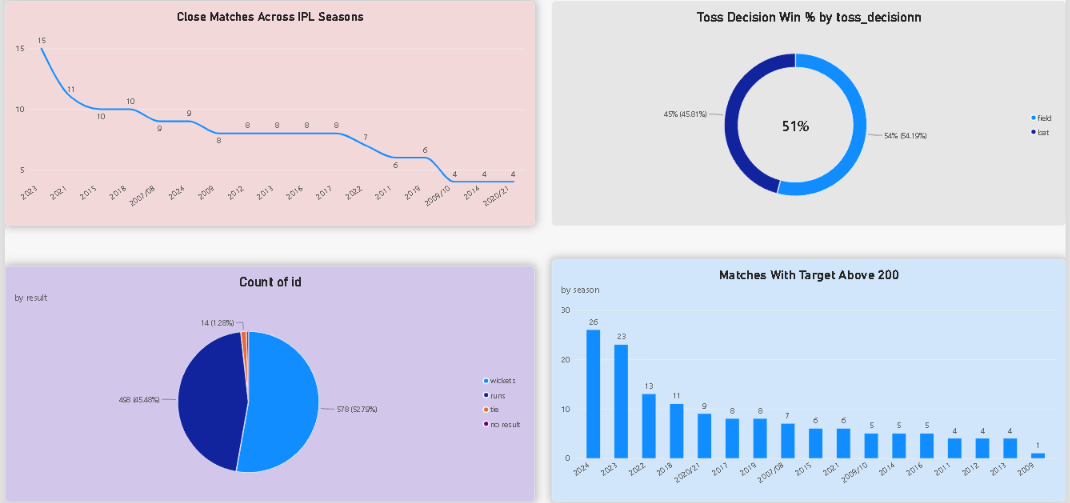

The dashboard page shown, as its layout file describes it:
{"tool":"powerbi","page":{"name":"Page 2","canvas":[1920,1080],"ordinal":1},"visuals":[{"type":"donutChart","fields":{"Category":["matches_cleaned.toss_decisionn"],"Y":["Teams_Clean.Toss Decision Win %"]},"box":[989.9,95.9,930.6,406.1],"z":1},{"type":"lineChart","title":"Close Matches Across IPL Seasons","fields":{"Category":["matches_cleaned.season"],"Y":["Teams_Clean.Close Matches"]},"box":[0,95.9,959.2,406.1],"z":5},{"type":"pieChart","fields":{"Category":["matches_cleaned.result"],"Y":["CountNonNull(matches_cleaned.id)"]},"box":[0,575.5,959.1,427.1],"z":6},{"type":"columnChart","fields":{"Category":["matches_cleaned.season"],"Y":["Teams_Clean.Matches With Target Above 200"]},"box":[989.9,562.8,930.2,439.7],"z":7}]}

Visuals, with their boxes on the page's 1920x1080 design canvas (x1, y1, x2, y2). These are canvas units, not pixel positions in the 1070x503 screenshot, which may show the page scaled, cropped or inside an application window:
donutChart - matches_cleaned.toss_decisionn x Teams_Clean.Toss Decision Win %: <box>990,96,1920,502</box>
"Close Matches Across IPL Seasons" lineChart: <box>0,96,959,502</box>
pieChart - matches_cleaned.result x CountNonNull(matches_cleaned.id): <box>0,576,959,1003</box>
columnChart - matches_cleaned.season x Teams_Clean.Matches With Target Above 200: <box>990,563,1920,1002</box>
